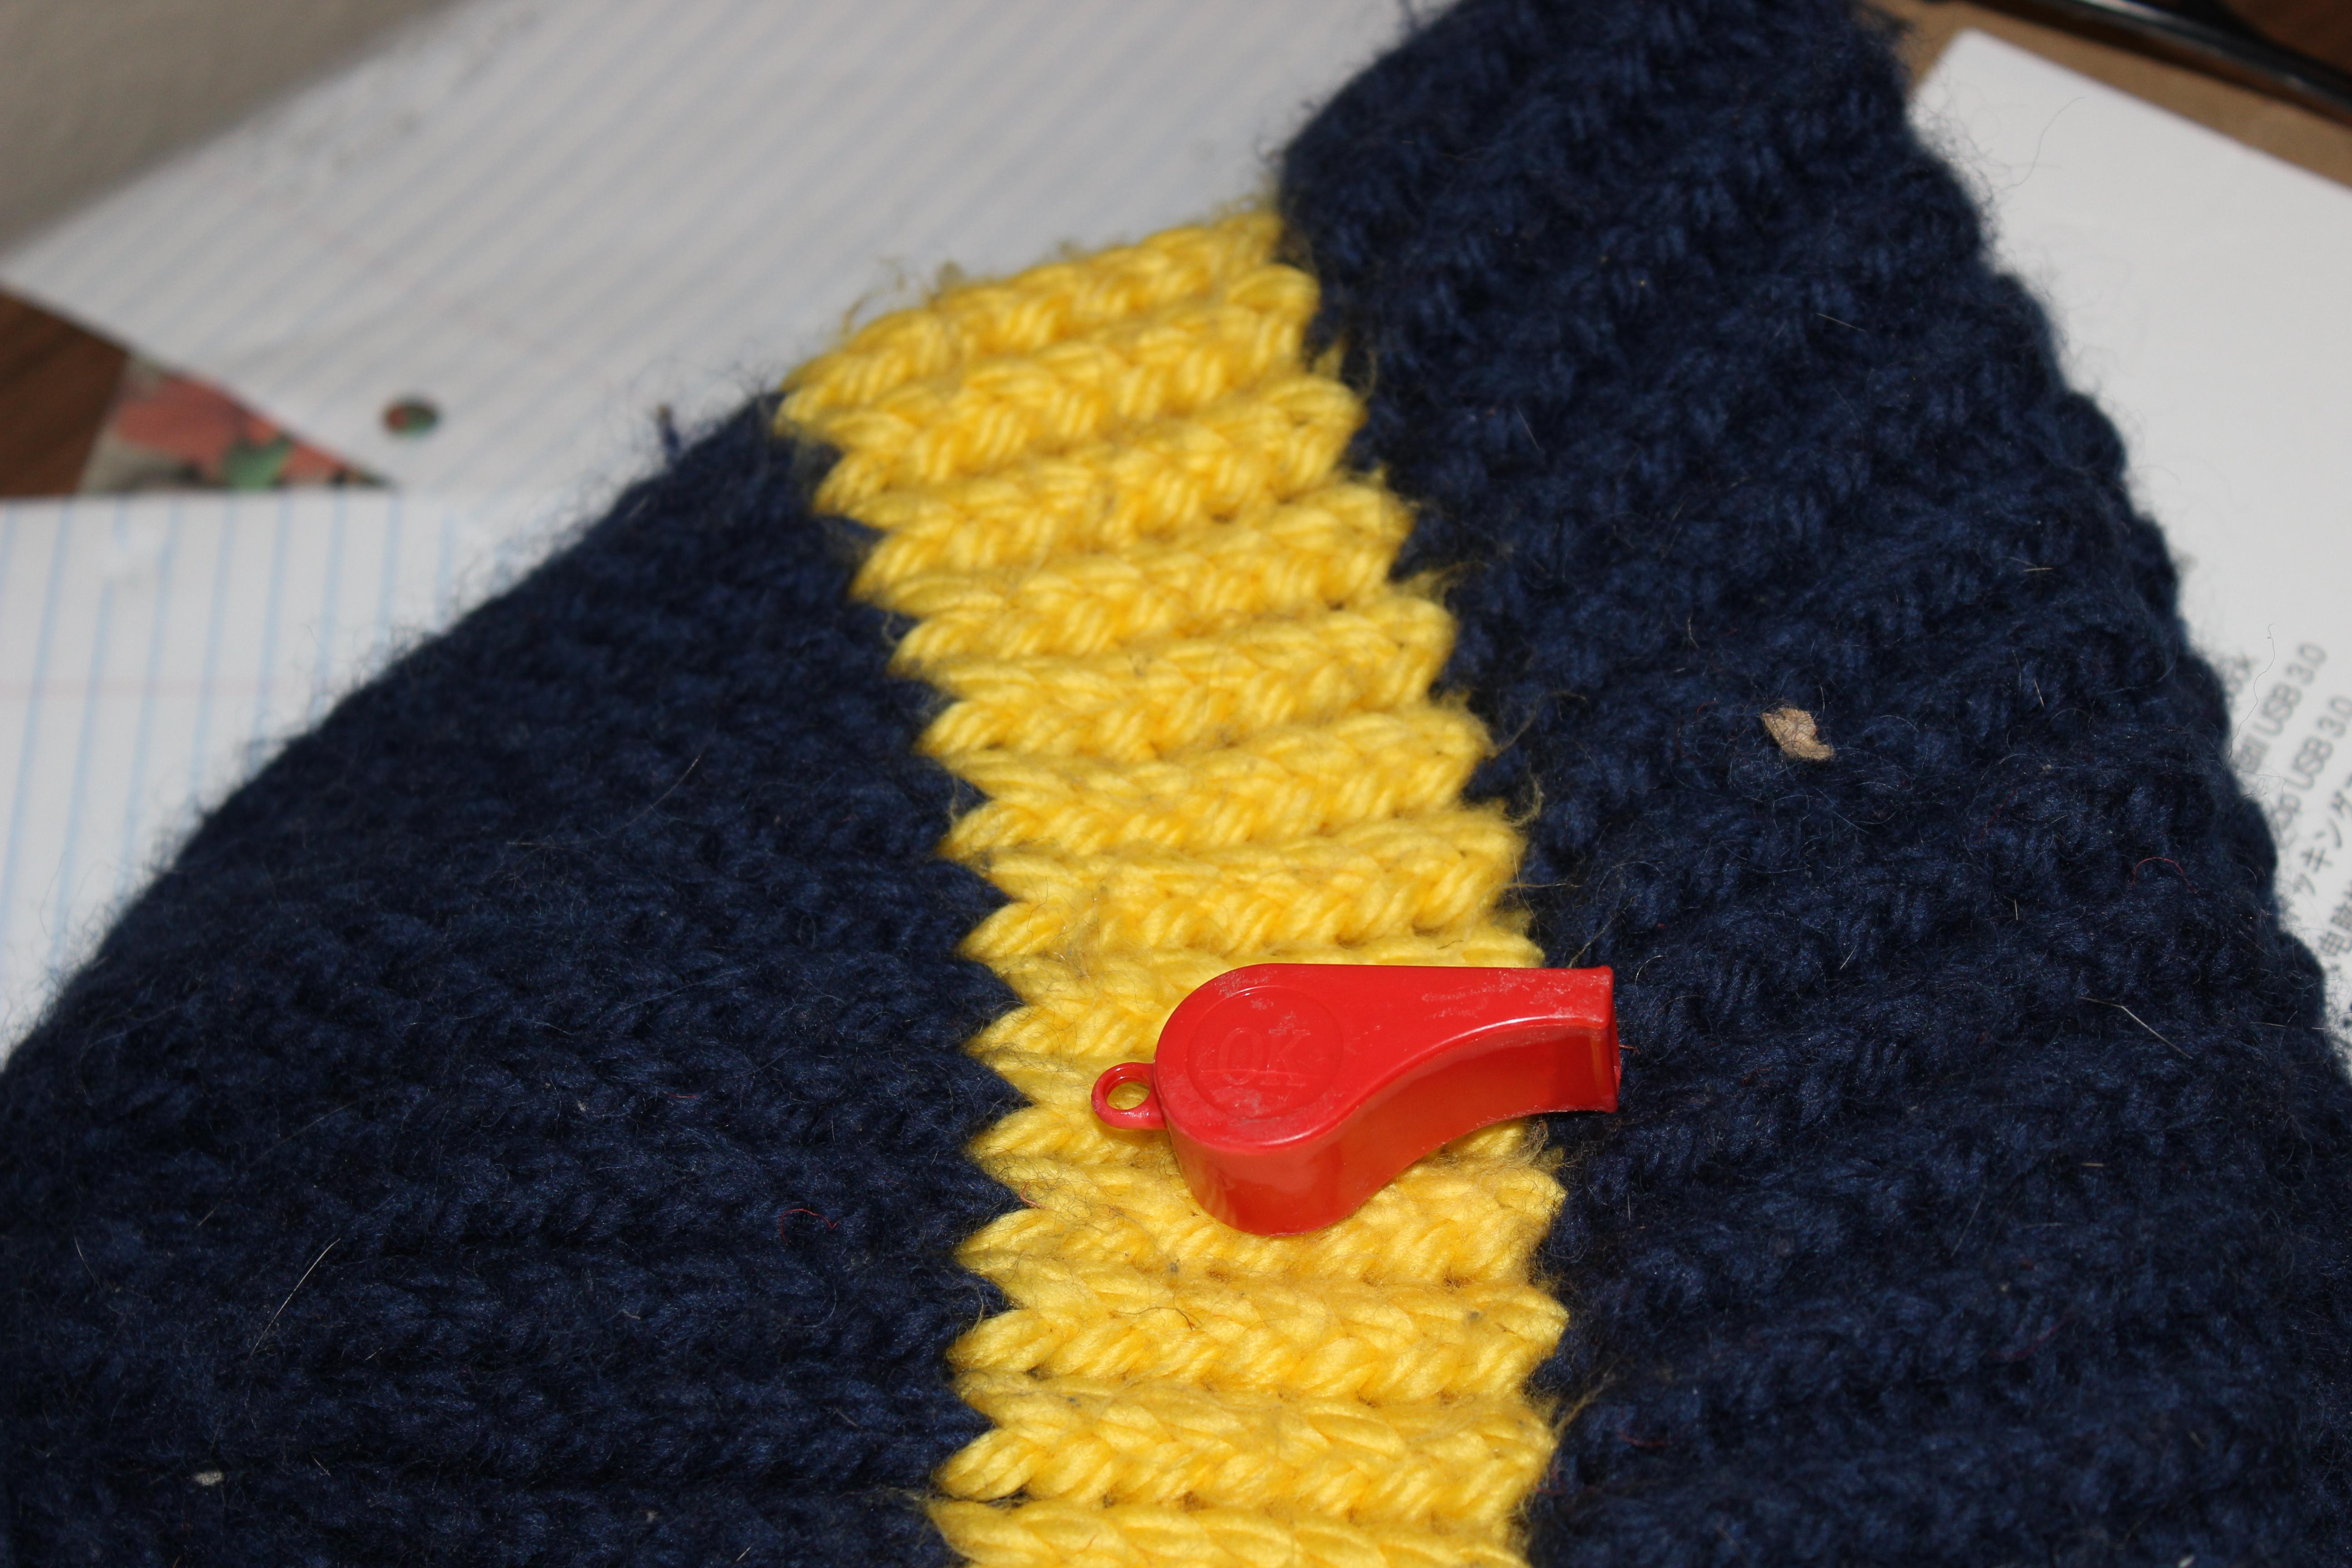redWhistle: (1069, 917, 1668, 1270)
